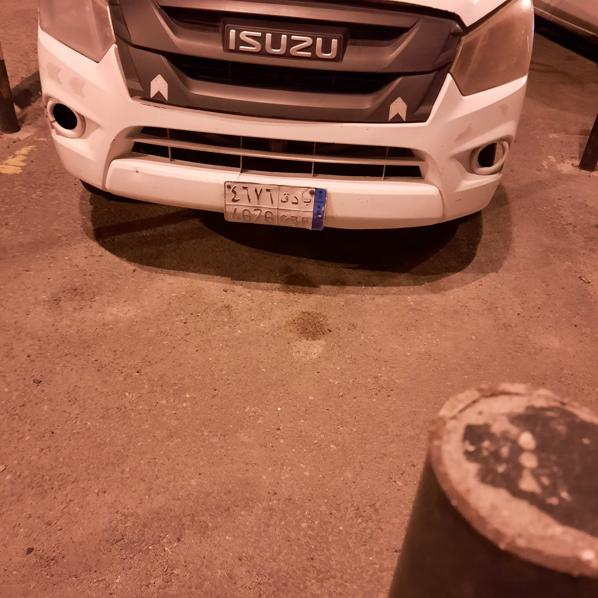numberplate: (224, 182, 326, 231)
